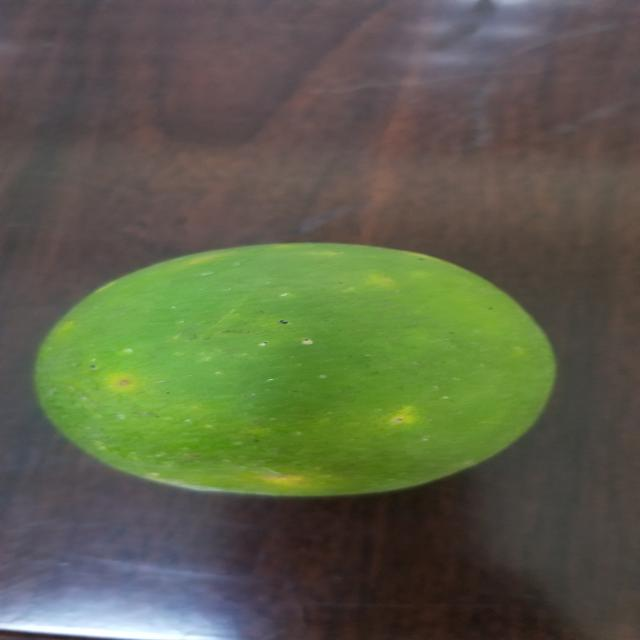Ripe orange: (20, 239, 581, 502)
